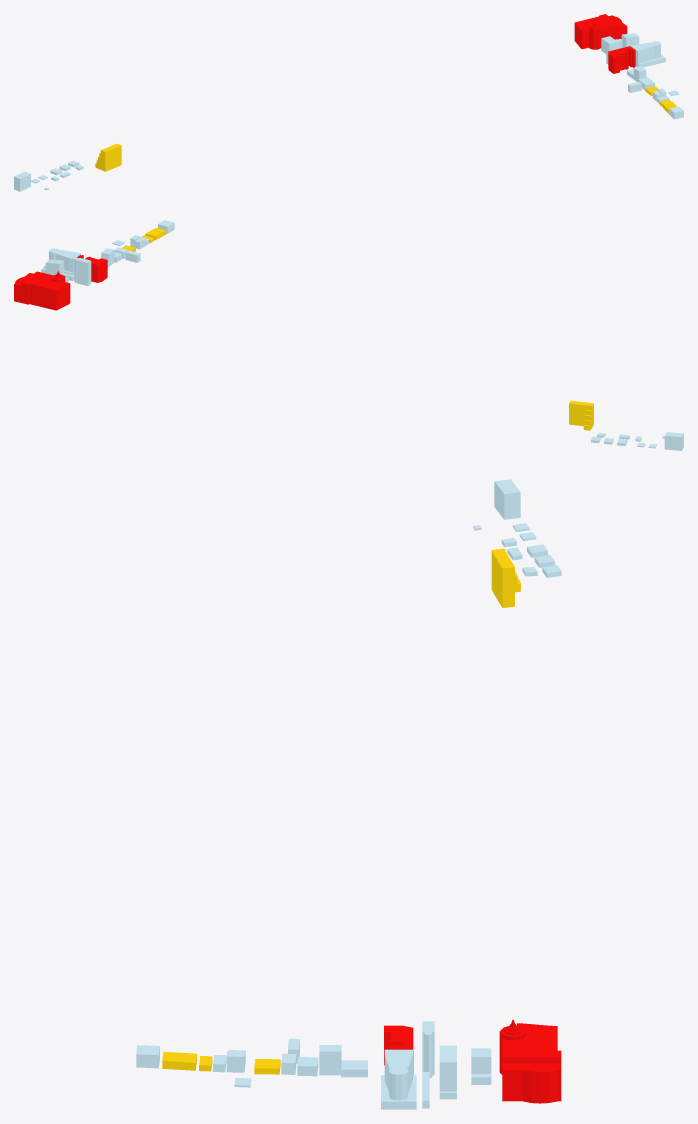
File: gta6.glb
The picture shows the model from 3 angles, top to bottom: view 1: azimuth 30°, elevation 25°; view 2: azimuth 150°, elevation 25°; view 3: azimuth 270°, elevation 25°; orthographic projection. The views are drawn at different scales.
Visible parts, largest first — view 1: Cube.004, Cube, Cube.006, Cube.011; view 2: Cube.004, Cube.011, Cube.005, Cube, Cube.006; view 3: Cube.004, Cube, Cube.011, Cube.002, Cube.007.
Part boxes in pixels (x1,y1,x2,y2): Cube.004: (574,14,627,49); Cube: (631,41,665,67); Cube.006: (608,46,635,73); Cube.011: (95,143,121,171); Cube.004: (14,271,70,310); Cube.011: (569,400,593,430); Cube.005: (74,257,91,285); Cube: (43,248,80,275); Cube.006: (77,255,107,282); Cube.004: (499,1019,561,1103); Cube: (381,1049,416,1109); Cube.011: (491,548,520,607); Cube.002: (439,1045,456,1099); Cube.007: (494,479,520,519).
Size of what is drawn, in the model's own units: 1973 by 81.44 by 587.
3 materials, 3 textured.
